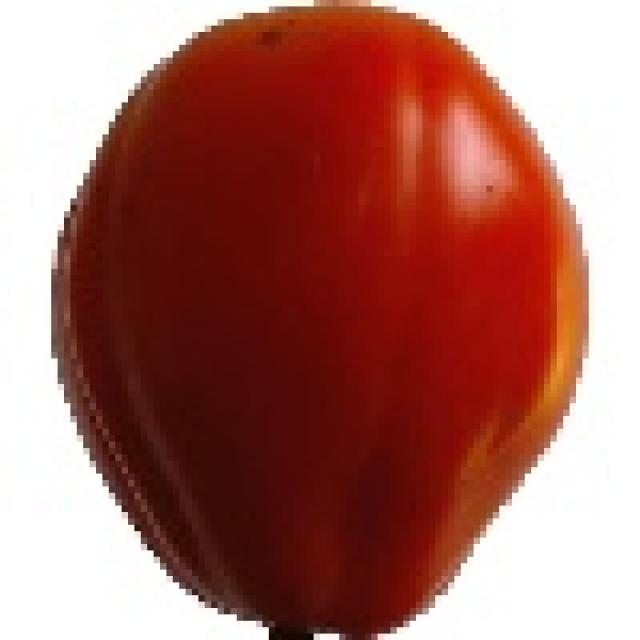tomato: (48, 6, 602, 640), (73, 60, 372, 288)
